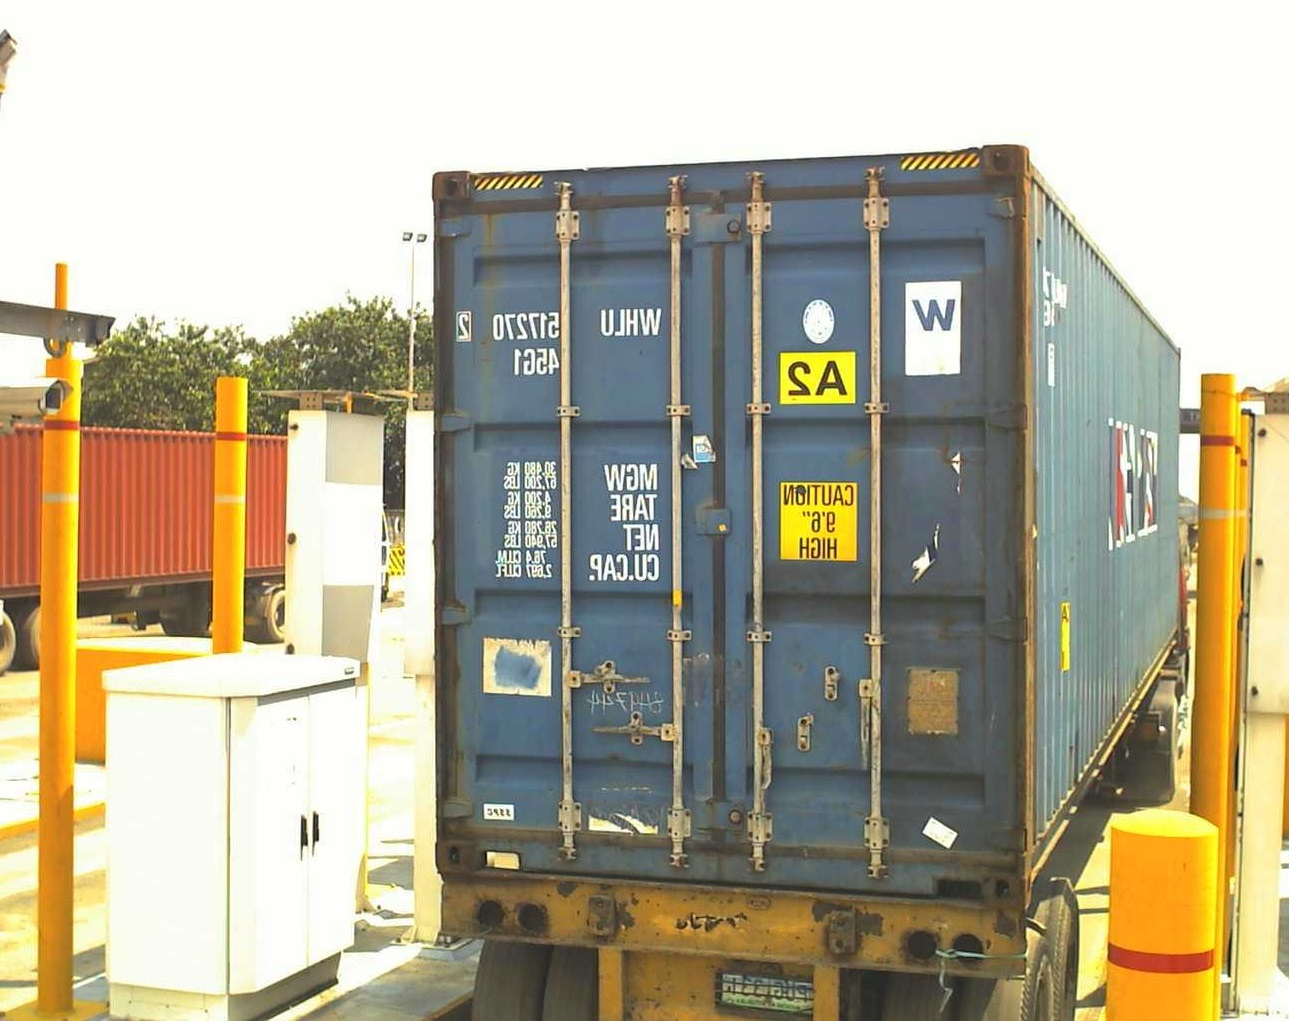container_door: (429, 159, 1038, 908)
